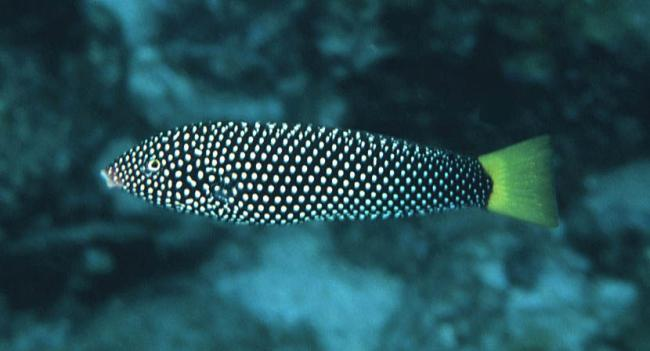fish: (100, 119, 560, 231)
